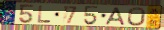5: (83, 5, 100, 26), (18, 4, 35, 25)
7: (63, 6, 78, 25)
A: (104, 7, 126, 26)
L: (37, 5, 52, 24)
O: (127, 6, 147, 27)
